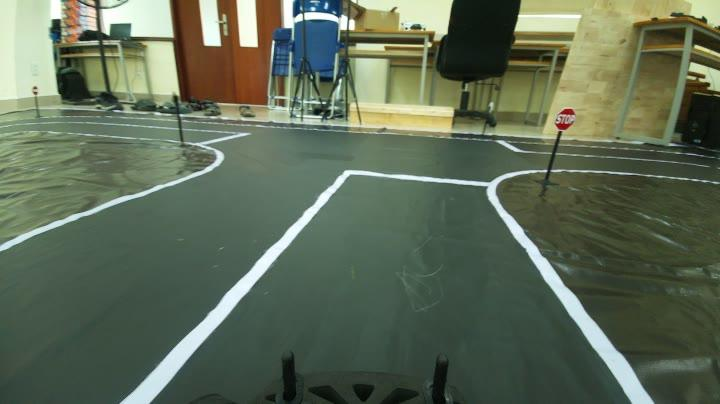stop: (552, 105, 576, 133)
